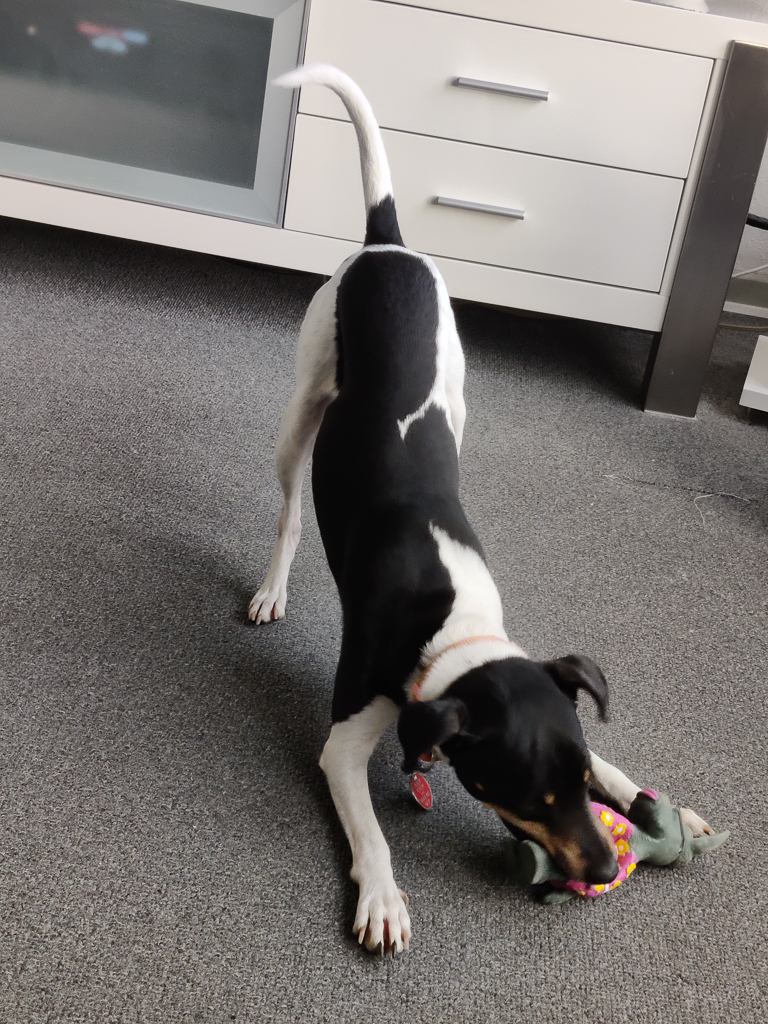Dog: (203, 47, 742, 966)
Humanoid: (480, 772, 739, 922)
